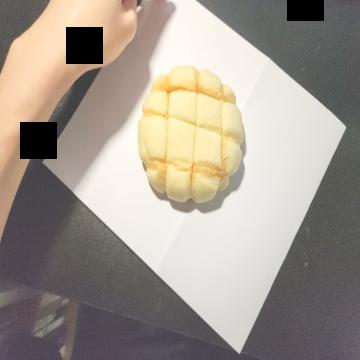melon_bread: (137, 65, 245, 204)
